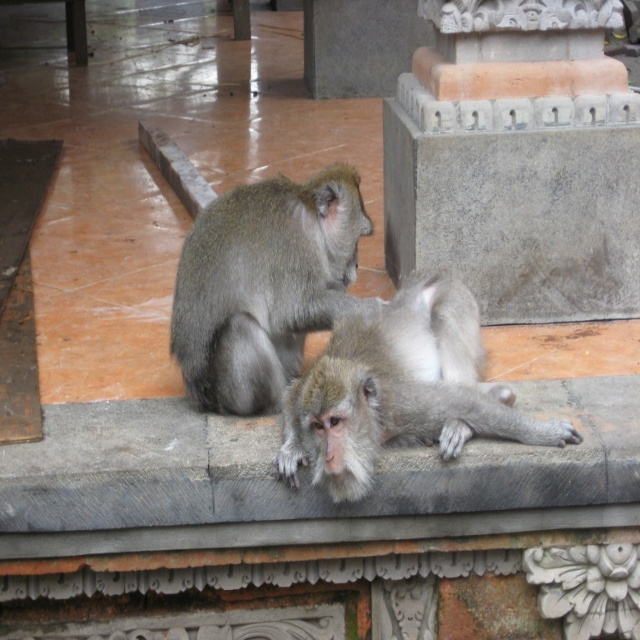Monkey: (277, 268, 577, 504), (170, 164, 372, 419)
